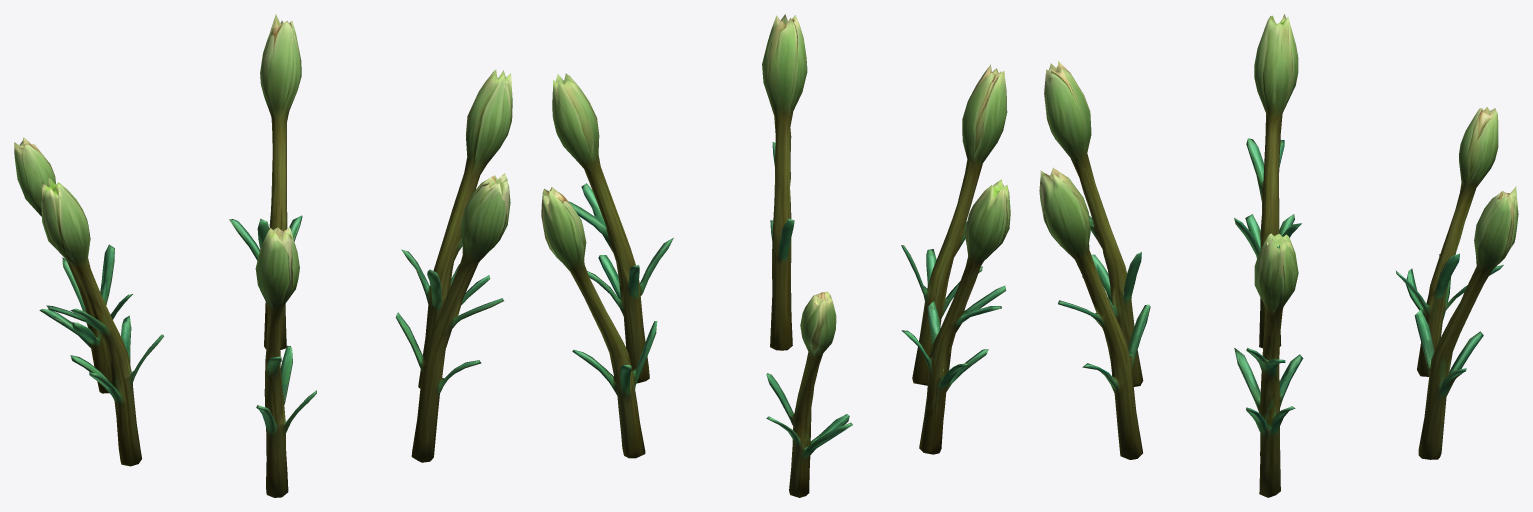
3 renders of one model, left to right at view 1: azimuth 30°, elevation 25°; view 2: azimuth 150°, elevation 25°; view 3: azimuth 270°, elevation 25°, orthographic. The views are drawn at different scales.
Parts seen in each view (by area): view 1: Mesh_0; view 2: Mesh_0; view 3: Mesh_0.
Boxes of the visible parts, <box> form: Mesh_0: <box>14,14,512,497</box>; Mesh_0: <box>541,14,1010,497</box>; Mesh_0: <box>1039,14,1518,497</box>.
Bounding box in the file's own units: 1.91 × 1.2 × 1.71.
1 material, 1 textured.
